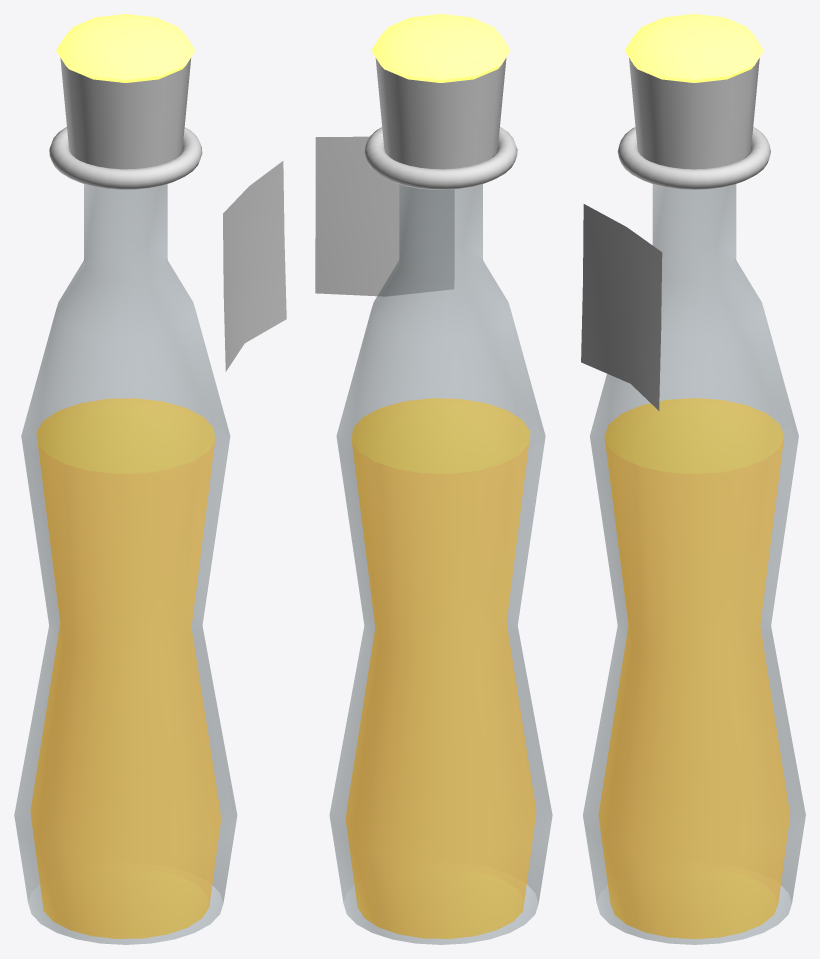
Rendered from swiftness_draught.glb.
The picture shows the model from 3 angles, left to right: view 1: azimuth 30°, elevation 25°; view 2: azimuth 150°, elevation 25°; view 3: azimuth 270°, elevation 25°; orthographic projection.
Parts seen in each view (by area): view 1: swiftness_draught; view 2: swiftness_draught; view 3: swiftness_draught.
Boxes of the visible parts, x1=… form: swiftness_draught: x1=14, y1=14, x2=286, y2=944; swiftness_draught: x1=315, y1=14, x2=552, y2=944; swiftness_draught: x1=581, y1=14, x2=805, y2=944.
Bounding box in the file's own units: 0.0795 × 0.279 × 0.0645.
